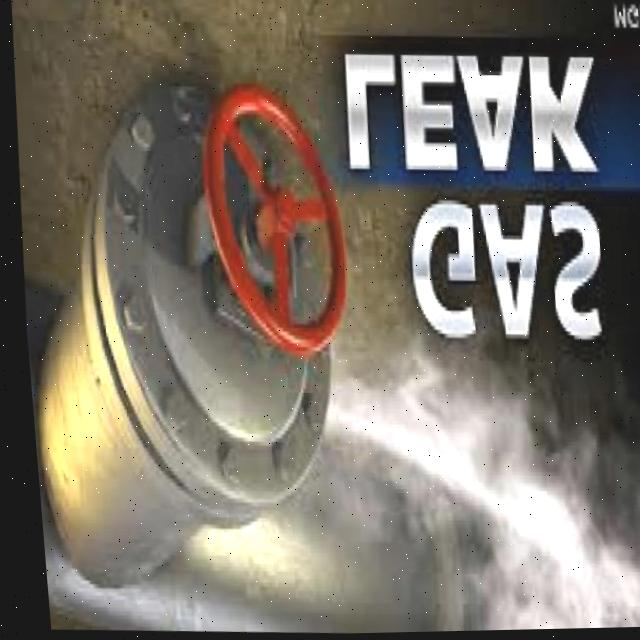corrosion: (187, 97, 566, 614)
